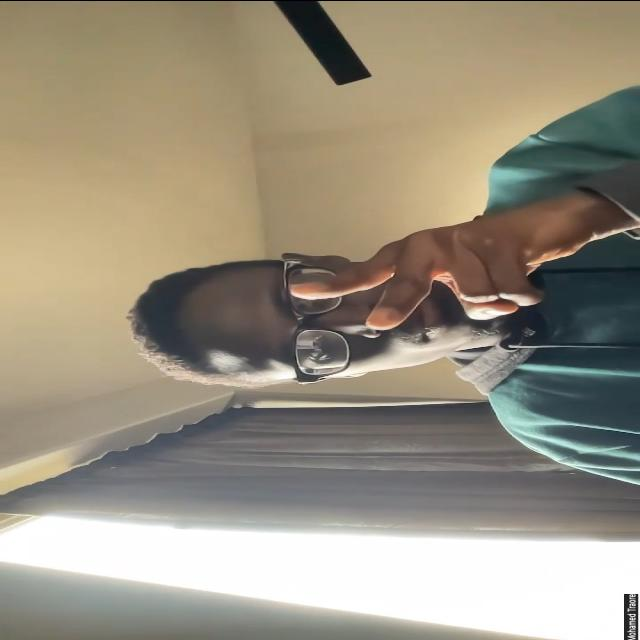Scissors: (286, 203, 590, 330)
